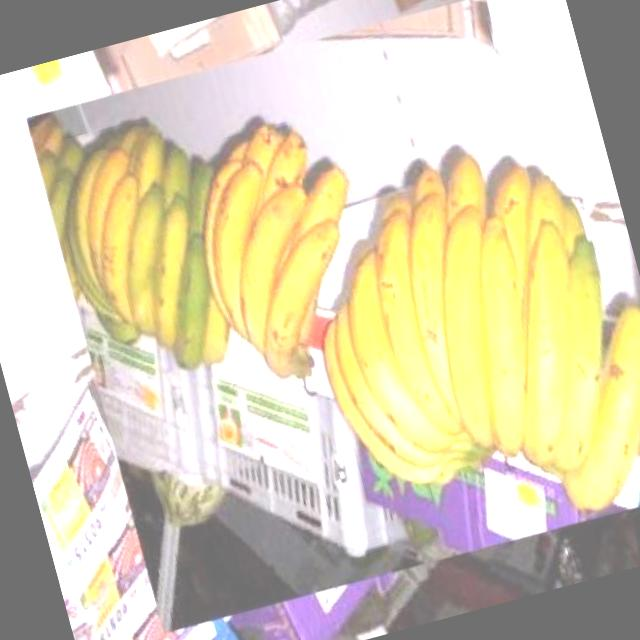Banana: (273, 104, 640, 577), (170, 106, 396, 398), (35, 104, 258, 398)
